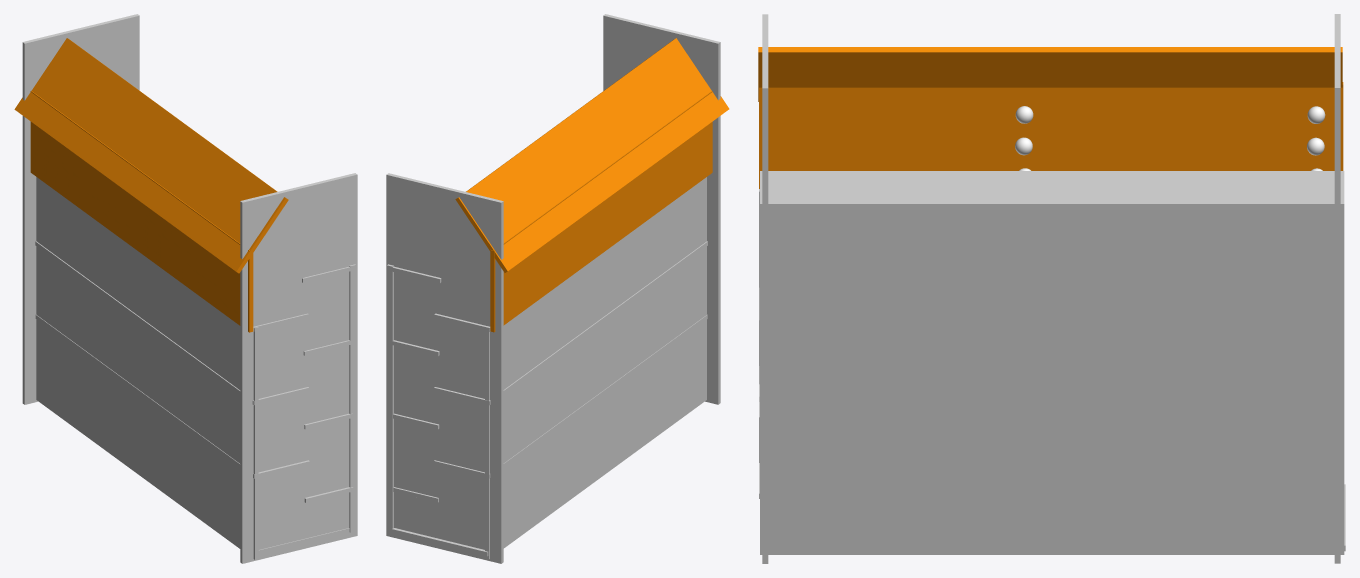
Rendered from multibounce_gi_test_scene.gltf.
The picture shows the model from 3 angles, left to right: view 1: azimuth 30°, elevation 25°; view 2: azimuth 150°, elevation 25°; view 3: azimuth 270°, elevation 25°; orthographic projection. The views are drawn at different scales.
Parts seen in each view (by area): view 1: StaticMeshActor_8, StaticMeshActor_24, StaticMeshActor_15, StaticMeshActor_10, StaticMeshActor_11, StaticMeshActor_5, StaticMeshActor_16, StaticMeshActor_23, StaticMeshActor_4; view 2: StaticMeshActor_8, StaticMeshActor_11, StaticMeshActor_15, StaticMeshActor_10, StaticMeshActor_24, StaticMeshActor_5, StaticMeshActor_16, StaticMeshActor_23, StaticMeshActor_4; view 3: StaticMeshActor_5, StaticMeshActor_10, StaticMeshActor_15, StaticMeshActor_9, StaticMeshActor_11, StaticMeshActor_24.
Part boxes in pixels (<box>): StaticMeshActor_8: <box>36,177,258,559</box>; StaticMeshActor_24: <box>240,173,357,563</box>; StaticMeshActor_15: <box>14,38,288,273</box>; StaticMeshActor_10: <box>30,91,253,332</box>; StaticMeshActor_11: <box>22,14,139,404</box>; StaticMeshActor_5: <box>349,264,355,532</box>; StaticMeshActor_16: <box>35,241,309,404</box>; StaticMeshActor_23: <box>35,314,309,478</box>; StaticMeshActor_4: <box>258,528,349,554</box>; StaticMeshActor_8: <box>485,177,706,559</box>; StaticMeshActor_11: <box>386,173,503,563</box>; StaticMeshActor_15: <box>455,38,729,272</box>; StaticMeshActor_10: <box>490,91,712,332</box>; StaticMeshActor_24: <box>603,14,720,404</box>; StaticMeshActor_5: <box>387,264,393,532</box>; StaticMeshActor_16: <box>434,241,707,405</box>; StaticMeshActor_23: <box>434,314,707,478</box>; StaticMeshActor_4: <box>392,528,488,556</box>; StaticMeshActor_5: <box>760,200,1344,554</box>; StaticMeshActor_10: <box>759,82,1343,188</box>; StaticMeshActor_15: <box>758,47,1342,101</box>; StaticMeshActor_9: <box>760,171,1344,200</box>; StaticMeshActor_11: <box>1334,14,1340,563</box>; StaticMeshActor_24: <box>762,14,768,563</box>.
Size of the model in its own units: 31.46 by 88.5 by 98.96.
